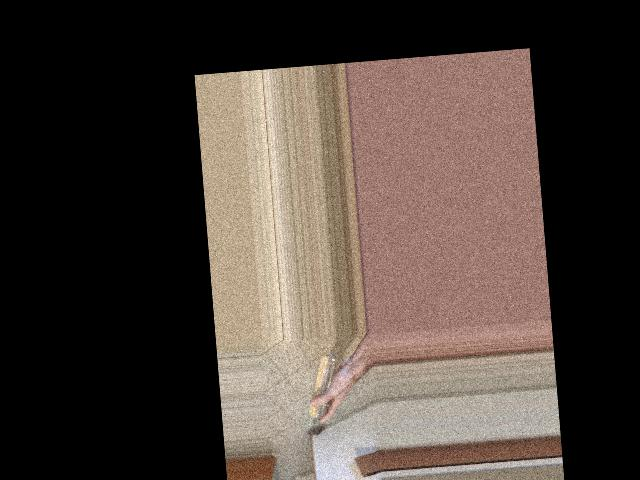cheese: (297, 359, 358, 428)
